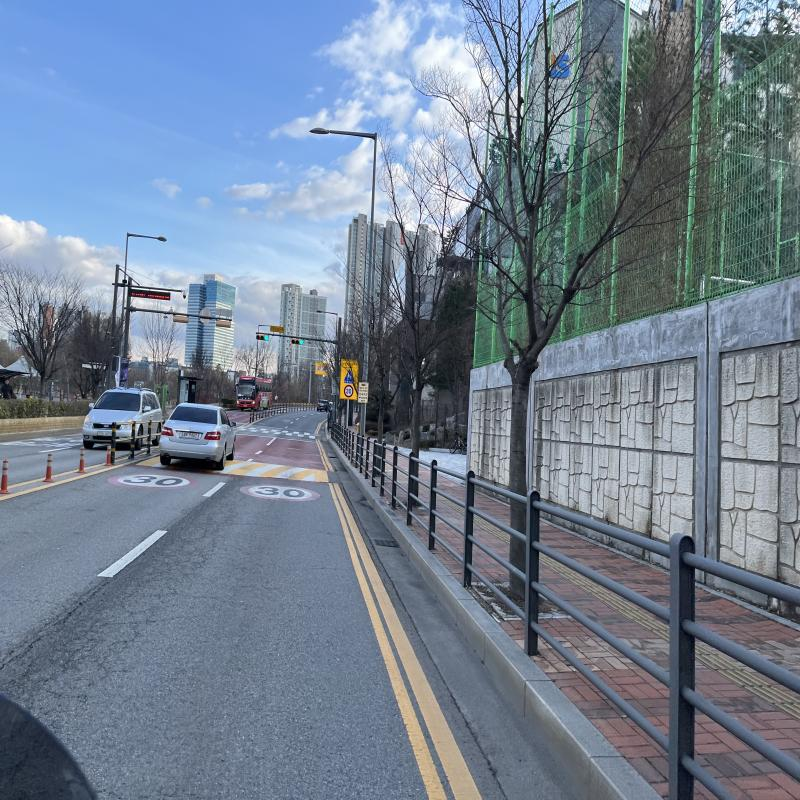green: (264, 336, 269, 341), (299, 340, 304, 345)
